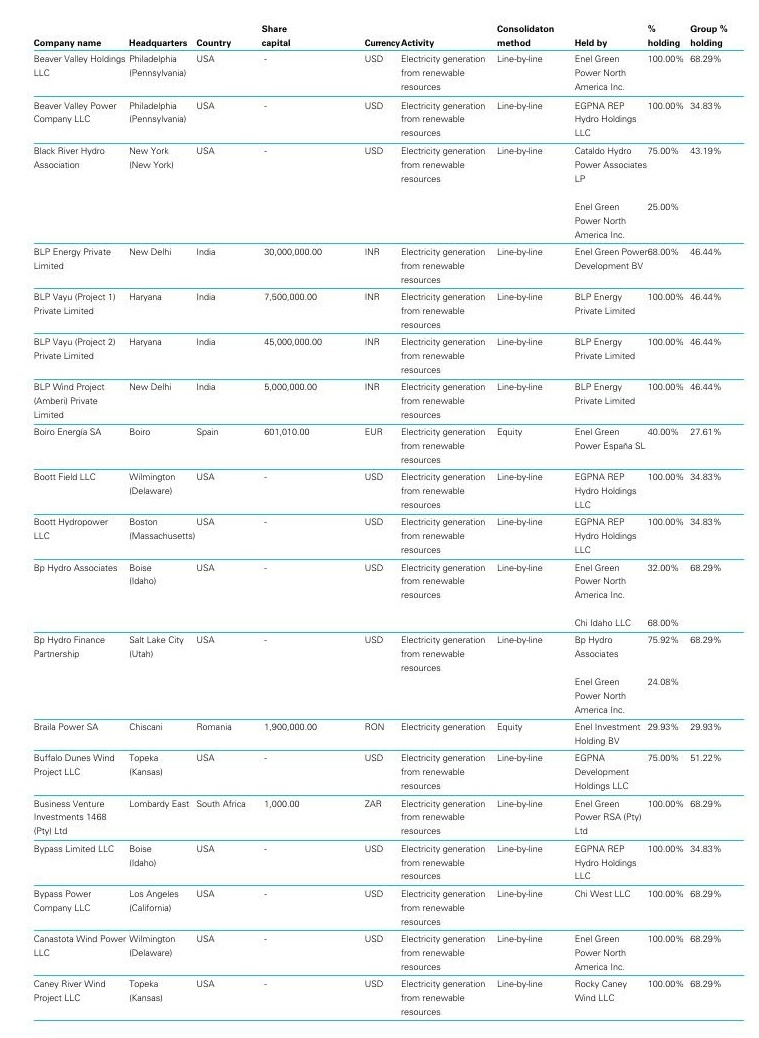table: (0, 0, 759, 1038)
